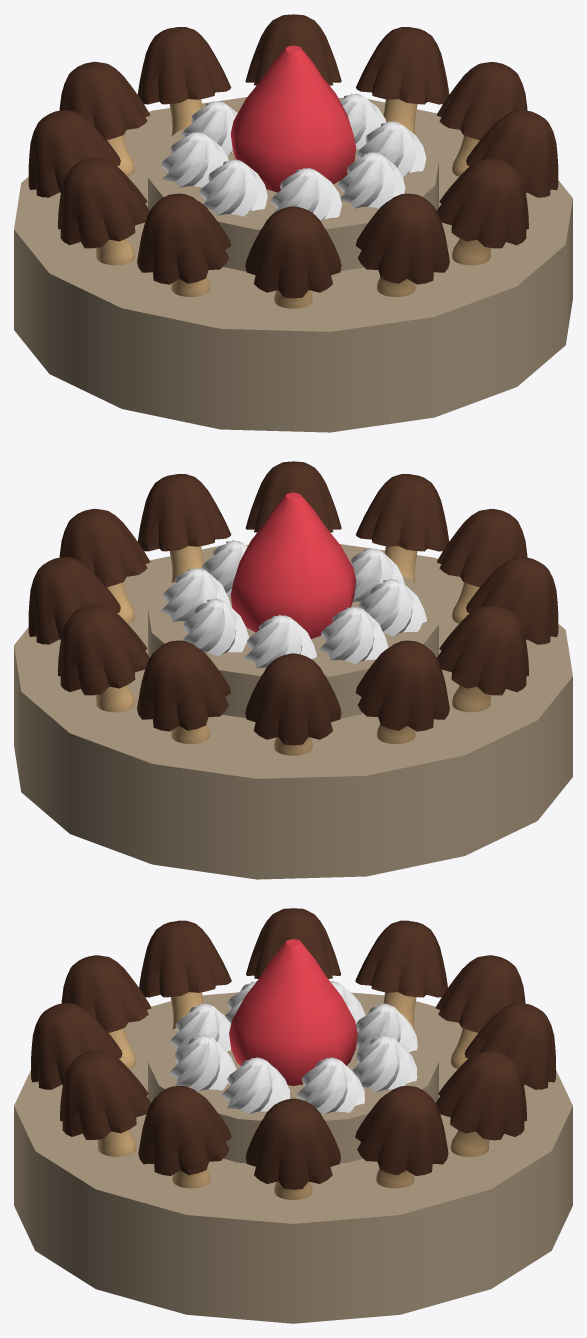
Rendered from tart_kinoko.fbx.
The picture shows the model from 3 angles, top to bottom: view 1: azimuth 30°, elevation 25°; view 2: azimuth 150°, elevation 25°; view 3: azimuth 270°, elevation 25°; orthographic projection.
Visible parts, largest first — view 1: 円.009; view 2: 円.009; view 3: 円.009.
Boxes of the visible parts, x1,y1,x2,y2 form: 円.009: (14,14,572,432); 円.009: (14,461,572,879); 円.009: (14,908,572,1323).
Size of the model in its own units: 78 by 40.53 by 78.
